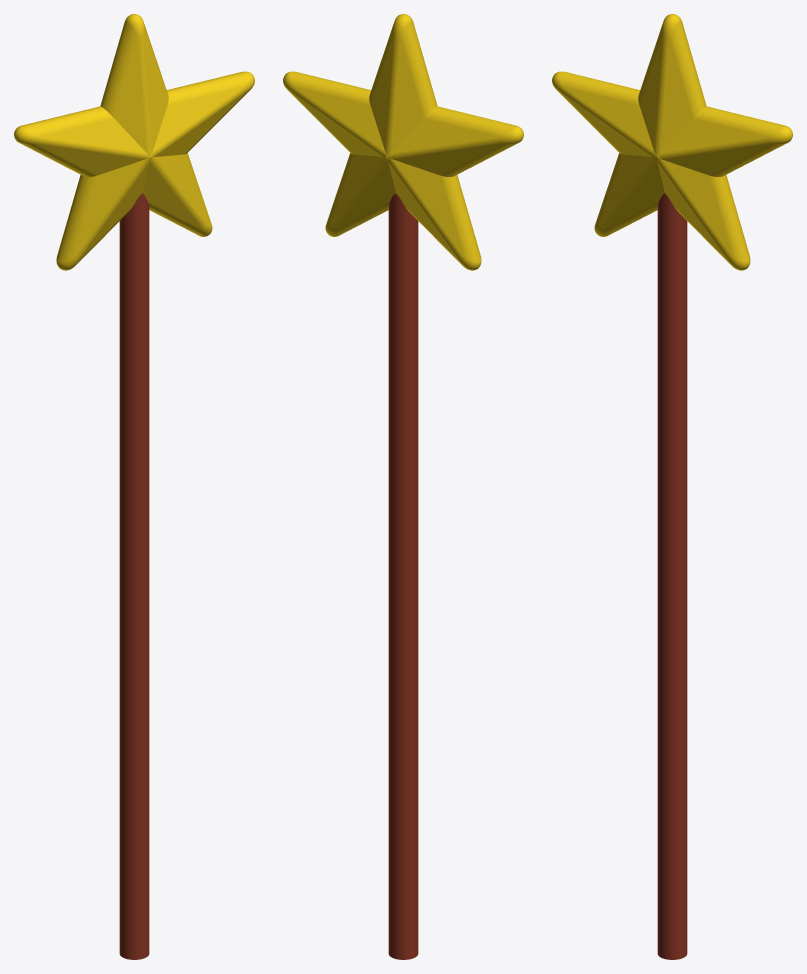
The model's file is wand_star.glb.
3 views of the same model, side by side, from view 1: azimuth 30°, elevation 25°; view 2: azimuth 150°, elevation 25°; view 3: azimuth 330°, elevation 25° (orthographic).
Parts seen in each view (by area): view 1: Object_2, Object_3; view 2: Object_2, Object_3; view 3: Object_2, Object_3.
Boxes of the visible parts, <box> form: Object_2: <box>14,14,254,270</box>; Object_3: <box>119,193,149,959</box>; Object_2: <box>283,14,523,270</box>; Object_3: <box>388,193,418,959</box>; Object_2: <box>552,14,792,270</box>; Object_3: <box>657,193,687,959</box>.
Size of the model in its own units: 92.69 by 349 by 21.53.
